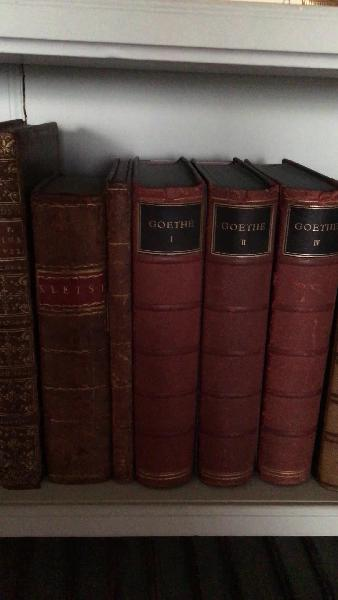Aa6-10: (103, 177, 140, 491)
Aa6-11_13: (129, 183, 338, 491)
Aa6-8: (1, 121, 41, 496)
Aa6-9: (28, 185, 121, 490)
